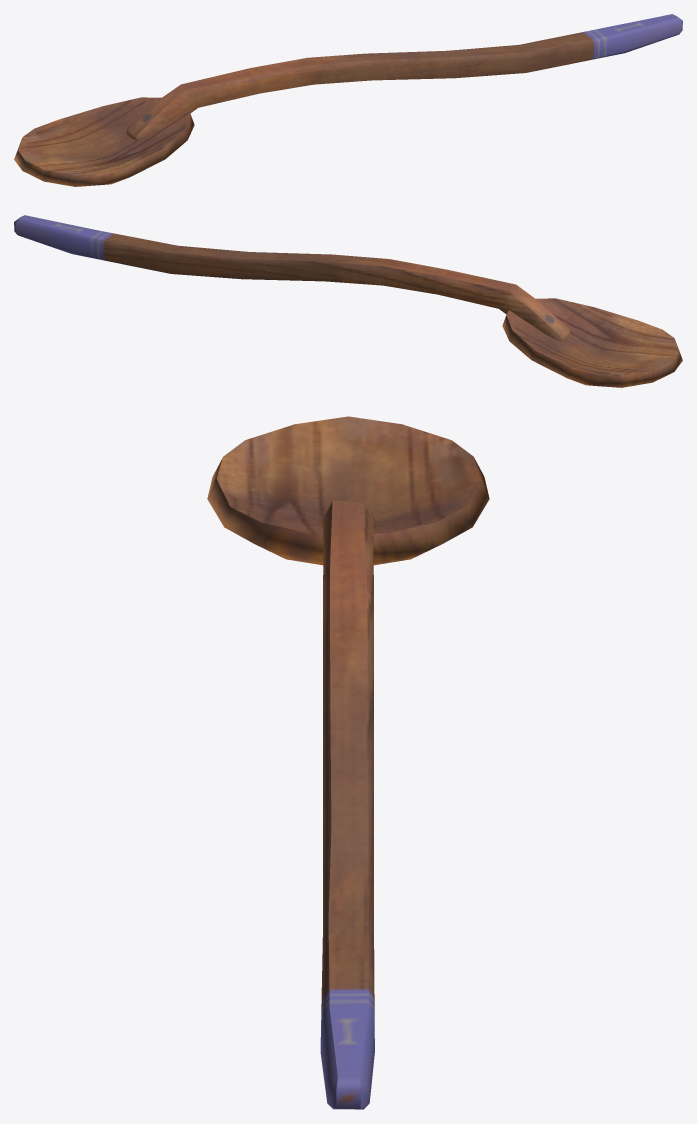
The model's file is SM_Potion_Props_Spoon_01.fbx.
The picture shows the model from 3 angles, top to bottom: view 1: azimuth 30°, elevation 25°; view 2: azimuth 150°, elevation 25°; view 3: azimuth 270°, elevation 25°; orthographic projection. The views are drawn at different scales.
Parts seen in each view (by area): view 1: SM_Potion_Props_Spoon_01_LOD0; view 2: SM_Potion_Props_Spoon_01_LOD0; view 3: SM_Potion_Props_Spoon_01_LOD0.
Part boxes in pixels (left/top/right/bottom): SM_Potion_Props_Spoon_01_LOD0: left=14, top=14, right=682, bottom=186; SM_Potion_Props_Spoon_01_LOD0: left=14, top=215, right=682, bottom=387; SM_Potion_Props_Spoon_01_LOD0: left=207, top=416, right=489, bottom=1109.
Size of what is drawn, in the model's own units: 36.83 by 3.71 by 6.85.
